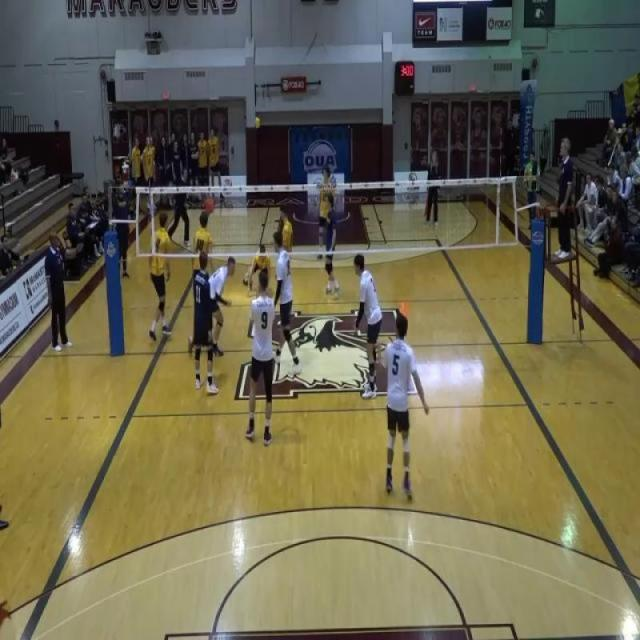volleyball: (254, 116, 261, 129), (523, 178, 530, 190)
